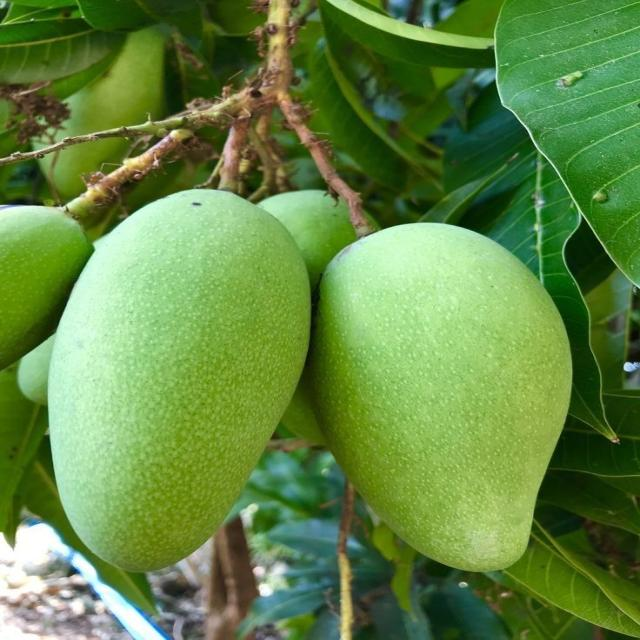mango: (49, 190, 310, 570), (311, 224, 571, 570), (0, 206, 92, 369), (54, 27, 166, 141), (260, 190, 356, 290), (18, 335, 54, 405)
